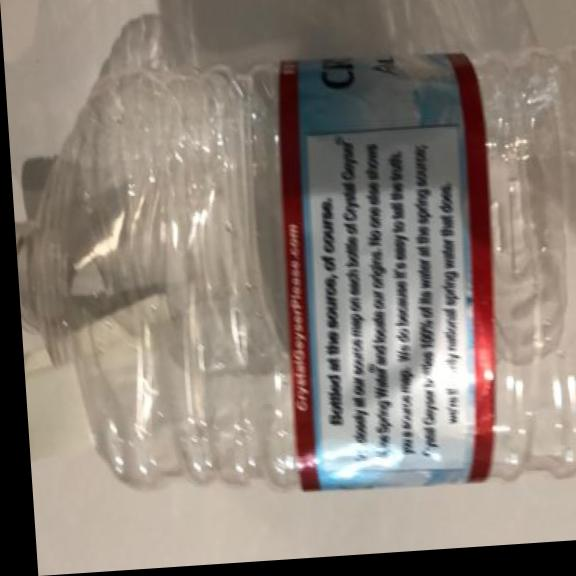Plastik: (1, 0, 576, 524)
